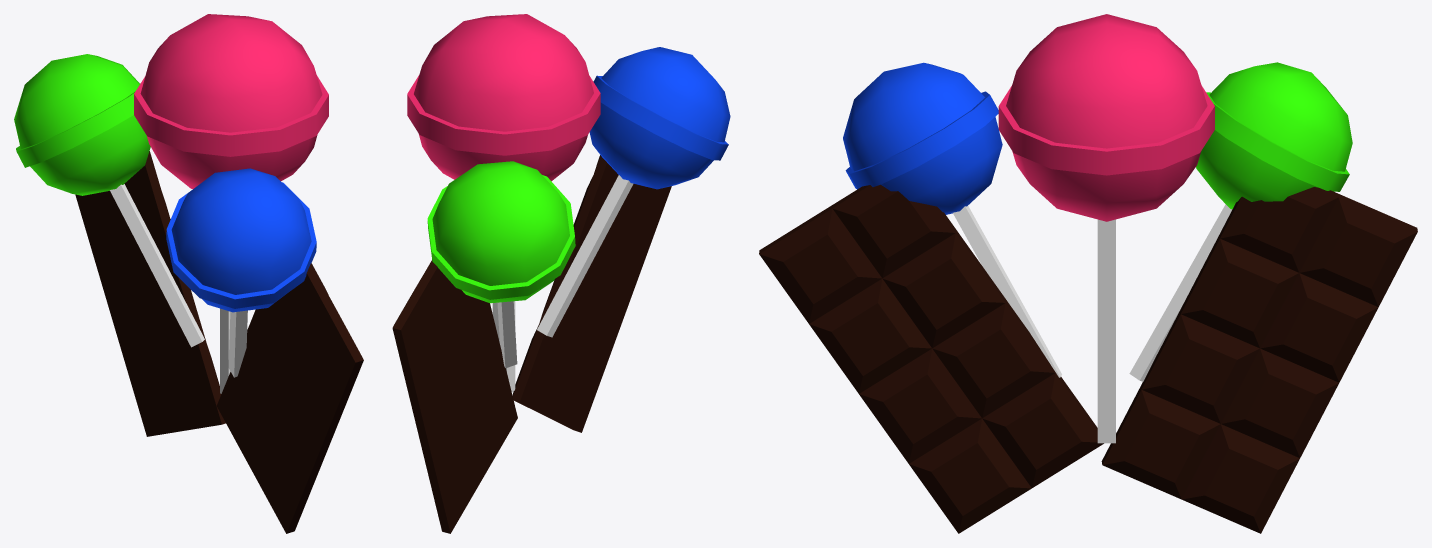
The model's file is egg_z04_03.obj.
3 renders of one model, left to right at view 1: azimuth 30°, elevation 25°; view 2: azimuth 150°, elevation 25°; view 3: azimuth 270°, elevation 25°, orthographic. The views are drawn at different scales.
Visible parts, largest first — view 1: egg_z04_03_p005, egg_z04_03_p003, egg_z04_03_p004, egg_z04_03_p007, egg_z04_03_p009, egg_z04_03_p008, egg_z04_03_p006, egg_z04_03_p001, egg_z04_03_p000, egg_z04_03_p002; view 2: egg_z04_03_p005, egg_z04_03_p004, egg_z04_03_p003, egg_z04_03_p009, egg_z04_03_p007, egg_z04_03_p006, egg_z04_03_p008, egg_z04_03_p000, egg_z04_03_p001, egg_z04_03_p002; view 3: egg_z04_03_p005, egg_z04_03_p009, egg_z04_03_p007, egg_z04_03_p008, egg_z04_03_p006, egg_z04_03_p003, egg_z04_03_p004, egg_z04_03_p002, egg_z04_03_p000, egg_z04_03_p001.
Part boxes in pixels (x1,y1,x2,y2): egg_z04_03_p005: (134,14,328,188); egg_z04_03_p003: (166,168,316,312); egg_z04_03_p004: (14,54,150,195); egg_z04_03_p007: (101,271,225,436); egg_z04_03_p009: (217,321,328,533); egg_z04_03_p008: (251,263,363,448); egg_z04_03_p006: (75,151,172,282); egg_z04_03_p001: (110,184,204,347); egg_z04_03_p000: (228,310,247,377); egg_z04_03_p002: (220,308,230,393); egg_z04_03_p005: (407,14,600,181); egg_z04_03_p004: (427,161,575,303); egg_z04_03_p003: (589,47,730,189); egg_z04_03_p009: (512,251,636,432); egg_z04_03_p007: (417,316,517,533); egg_z04_03_p006: (392,260,492,431); egg_z04_03_p008: (573,155,671,282); egg_z04_03_p000: (537,175,633,337); egg_z04_03_p001: (497,301,517,368); egg_z04_03_p002: (492,301,515,392); egg_z04_03_p005: (998,14,1214,221); egg_z04_03_p009: (859,300,1103,533); egg_z04_03_p007: (1101,310,1338,533); egg_z04_03_p008: (759,184,1005,393); egg_z04_03_p006: (1180,187,1417,382); egg_z04_03_p003: (843,62,1002,214); egg_z04_03_p004: (1196,62,1352,209); egg_z04_03_p002: (1097,219,1115,443); egg_z04_03_p000: (953,206,1061,377); egg_z04_03_p001: (1129,204,1232,381).
Size of the model in its own units: 1.54 by 3.06 by 3.55.
